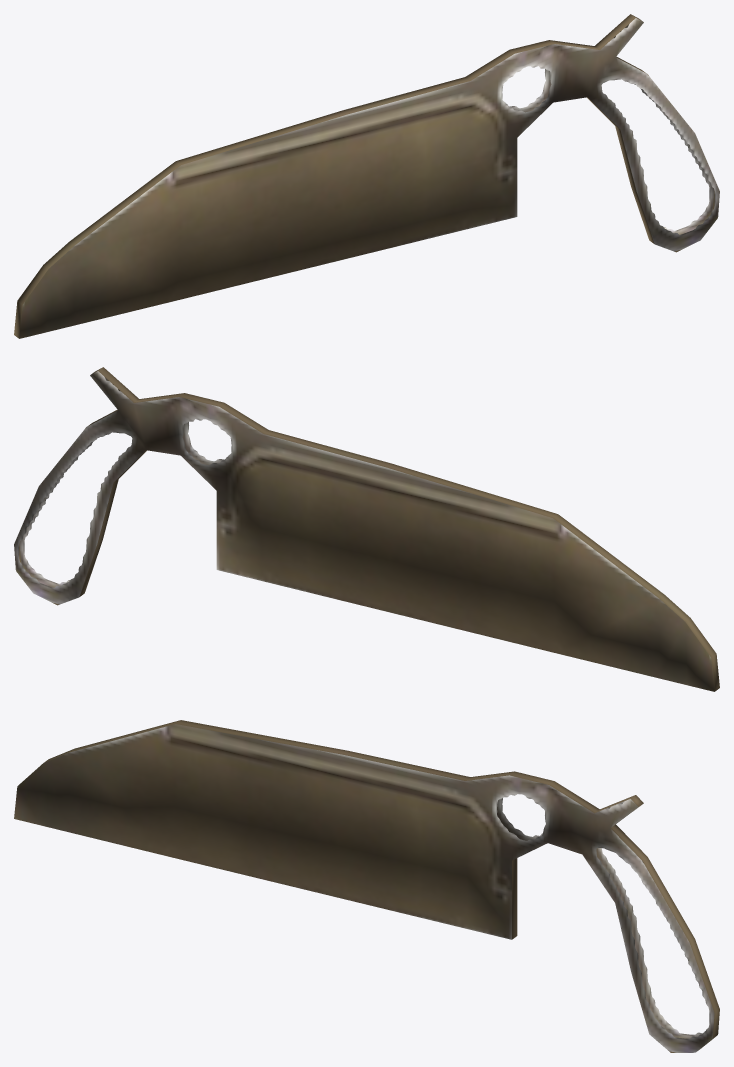
Rendered from bonesaw.FBX.
3 views of the same model, one above another, from view 1: azimuth 30°, elevation 25°; view 2: azimuth 150°, elevation 25°; view 3: azimuth 330°, elevation 25° (orthographic).
Parts seen in each view (by area): view 1: bonesaw; view 2: bonesaw; view 3: bonesaw.
Boxes of the visible parts, left/top/right/bottom form: bonesaw: left=14, top=14, right=719, bottom=338; bonesaw: left=14, top=367, right=719, bottom=691; bonesaw: left=14, top=720, right=719, bottom=1052.
Bounding box in the file's own units: 65.53 × 21.84 × 0.8744.
